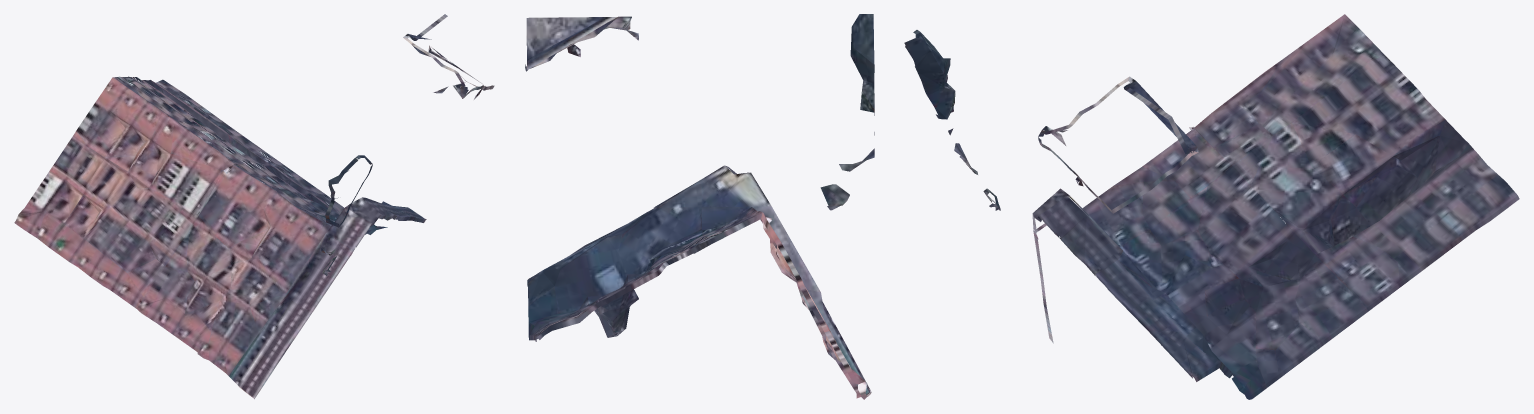
The picture shows the model from 3 angles, left to right: view 1: azimuth 30°, elevation 25°; view 2: azimuth 150°, elevation 25°; view 3: azimuth 270°, elevation 25°; orthographic projection. The views are drawn at different scales.
Size of the model in its own units: 52.8 by 39 by 57.55.
Materials: 2 (2 with a texture image).
